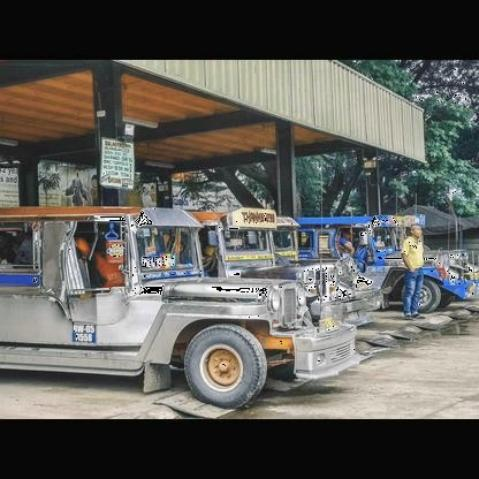jeepney: (2, 195, 341, 416), (199, 210, 366, 334), (308, 206, 473, 313)
